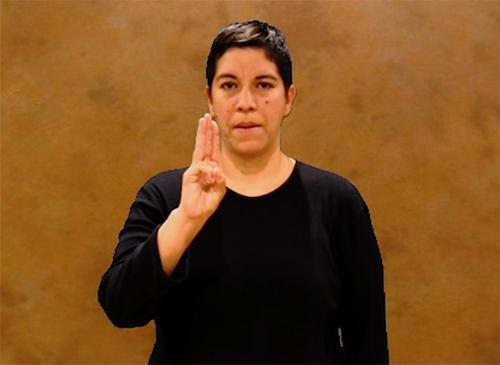P: (159, 102, 251, 226)
